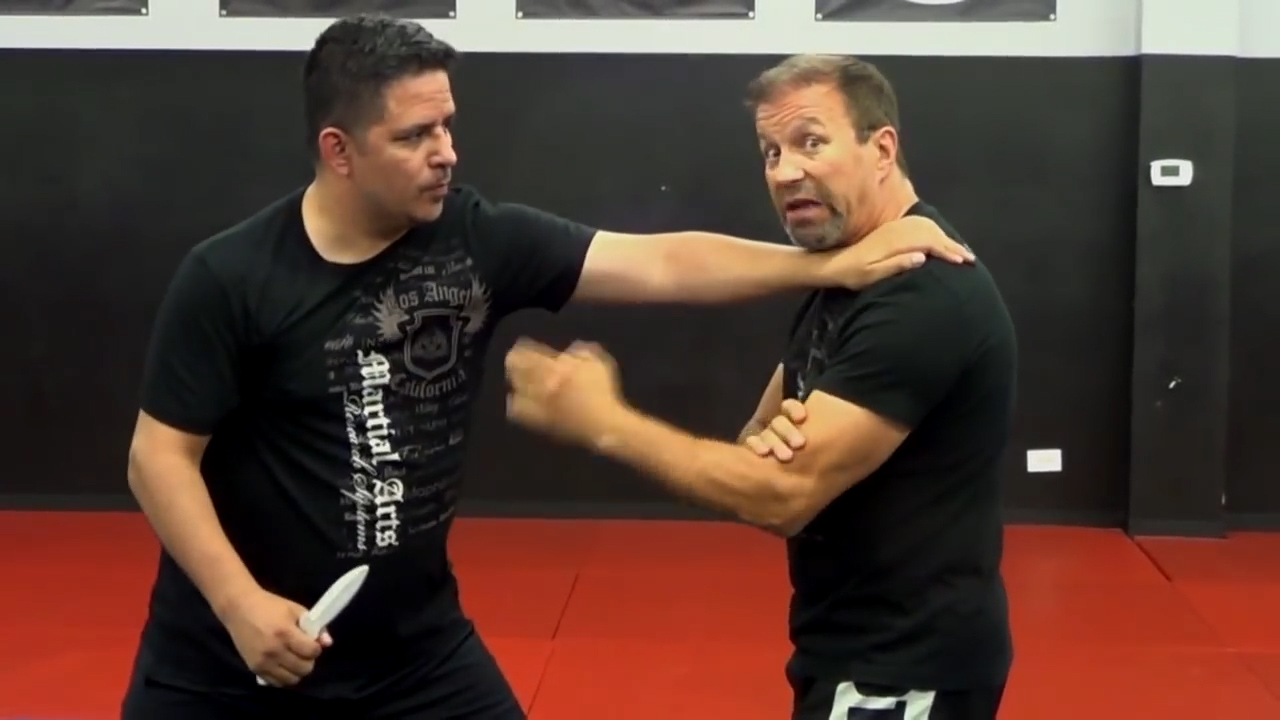knife: (248, 552, 379, 702)
